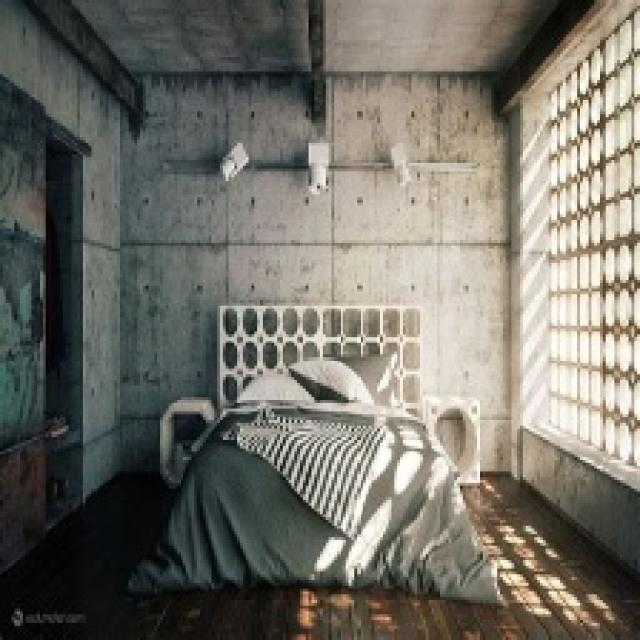Bed: (126, 303, 506, 606)
